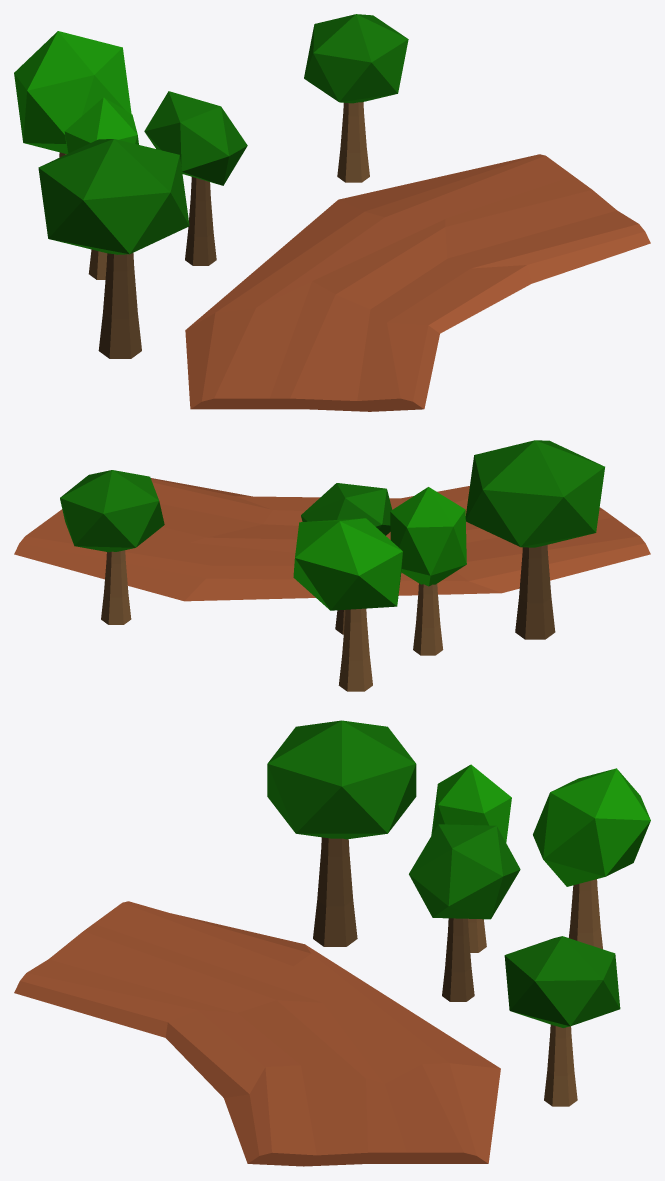
The model's file is street3_02_6.fbx.
The picture shows the model from 3 angles, top to bottom: view 1: azimuth 30°, elevation 25°; view 2: azimuth 150°, elevation 25°; view 3: azimuth 270°, elevation 25°; orthographic projection. The views are drawn at different scales.
Parts seen in each view (by area): view 1: readRoad02.005, tree, tree.002, tree.003, tree.004, tree.001; view 2: readRoad02.005, tree, tree.003, tree.002, tree.001, tree.004; view 3: readRoad02.005, tree, tree.003, tree.002, tree.004, tree.001.
Boxes of the visible parts, x1,y1,x2,y2 form: readRoad02.005: [185, 154, 650, 411]; tree: [38, 139, 189, 358]; tree.002: [304, 14, 408, 182]; tree.003: [14, 31, 131, 157]; tree.004: [144, 91, 247, 265]; tree.001: [64, 97, 138, 279]; readRoad02.005: [14, 478, 650, 601]; tree: [465, 440, 604, 639]; tree.003: [293, 518, 402, 691]; tree.002: [60, 470, 164, 624]; tree.001: [390, 487, 466, 655]; tree.004: [301, 483, 392, 634]; readRoad02.005: [14, 901, 500, 1166]; tree: [267, 720, 416, 946]; tree.003: [533, 768, 650, 949]; tree.002: [504, 936, 620, 1106]; tree.004: [409, 824, 520, 1001]; tree.001: [431, 764, 511, 952].
Size of the model in its own units: 96.27 by 34.78 by 92.58.
